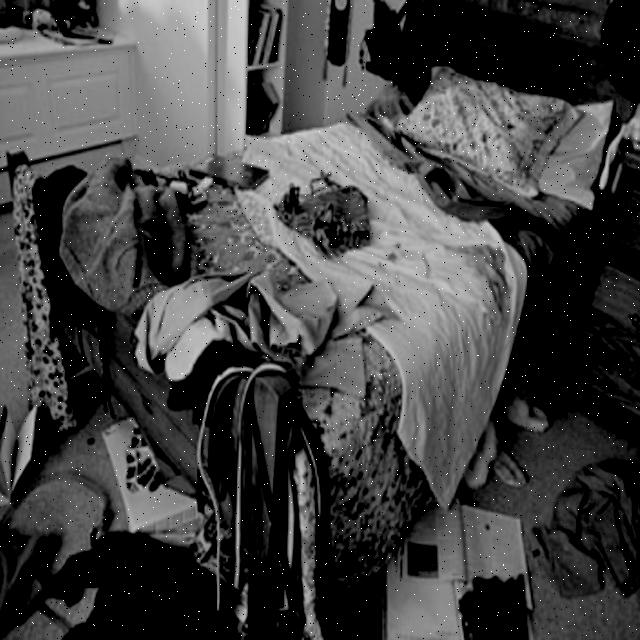bed: (46, 21, 600, 423)
